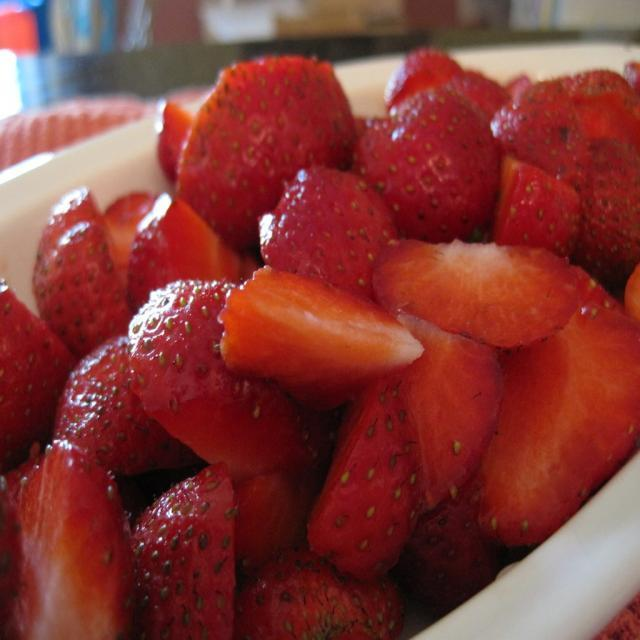Strawberry: (0, 48, 639, 639), (182, 58, 360, 242)
